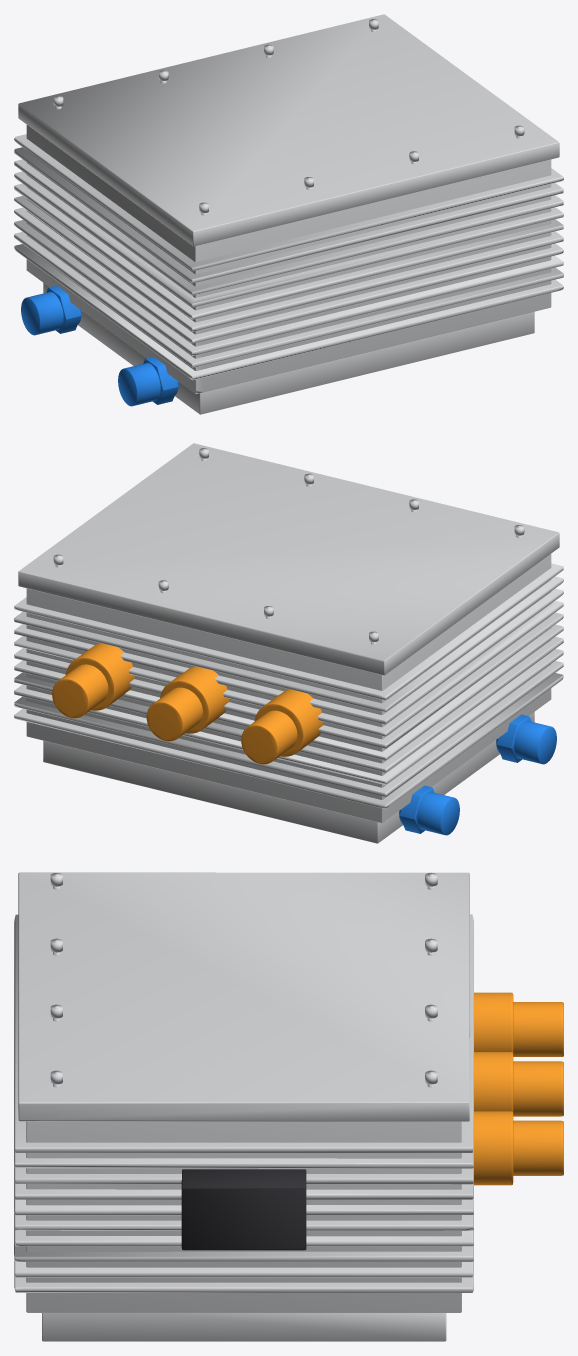
Rendered from edu_inverter_sic.glb.
3 views of the same model, one above another, from view 1: azimuth 30°, elevation 25°; view 2: azimuth 150°, elevation 25°; view 3: azimuth 270°, elevation 25° (orthographic). The views are drawn at different scales.
Parts seen in each view (by area): view 1: Inverter_Enclosure, Coolant_Port_0.08, Coolant_Port_-0.08; view 2: Inverter_Enclosure, HV_Phase_Gland_3, HV_Phase_Gland_1, HV_Phase_Gland_2, Coolant_Port_0.08, Coolant_Port_-0.08; view 3: Inverter_Enclosure, LV_Deutsch_Connector, HV_Phase_Gland_3, HV_Phase_Gland_2, HV_Phase_Gland_1.
Part boxes in pixels (x1,y1,x2,y2): Inverter_Enclosure: (14, 14, 563, 414); Coolant_Port_0.08: (21, 285, 81, 335); Coolant_Port_-0.08: (118, 356, 178, 406); Inverter_Enclosure: (14, 443, 563, 843); HV_Phase_Gland_3: (52, 643, 134, 718); HV_Phase_Gland_1: (241, 689, 323, 764); HV_Phase_Gland_2: (146, 666, 228, 741); Coolant_Port_0.08: (399, 785, 459, 835); Coolant_Port_-0.08: (496, 714, 556, 764); Inverter_Enclosure: (14, 872, 473, 1341); LV_Deutsch_Connector: (181, 1169, 306, 1250); HV_Phase_Gland_3: (474, 1111, 563, 1185); HV_Phase_Gland_2: (474, 1052, 563, 1116); HV_Phase_Gland_1: (474, 992, 563, 1056).
Bounding box in the file's own units: 0.3974 × 0.1888 × 0.3524.
